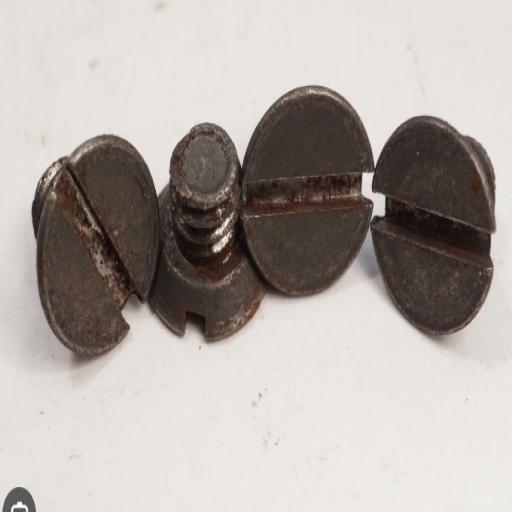Slotted: (370, 99, 494, 345), (239, 84, 374, 301), (39, 134, 160, 361)
